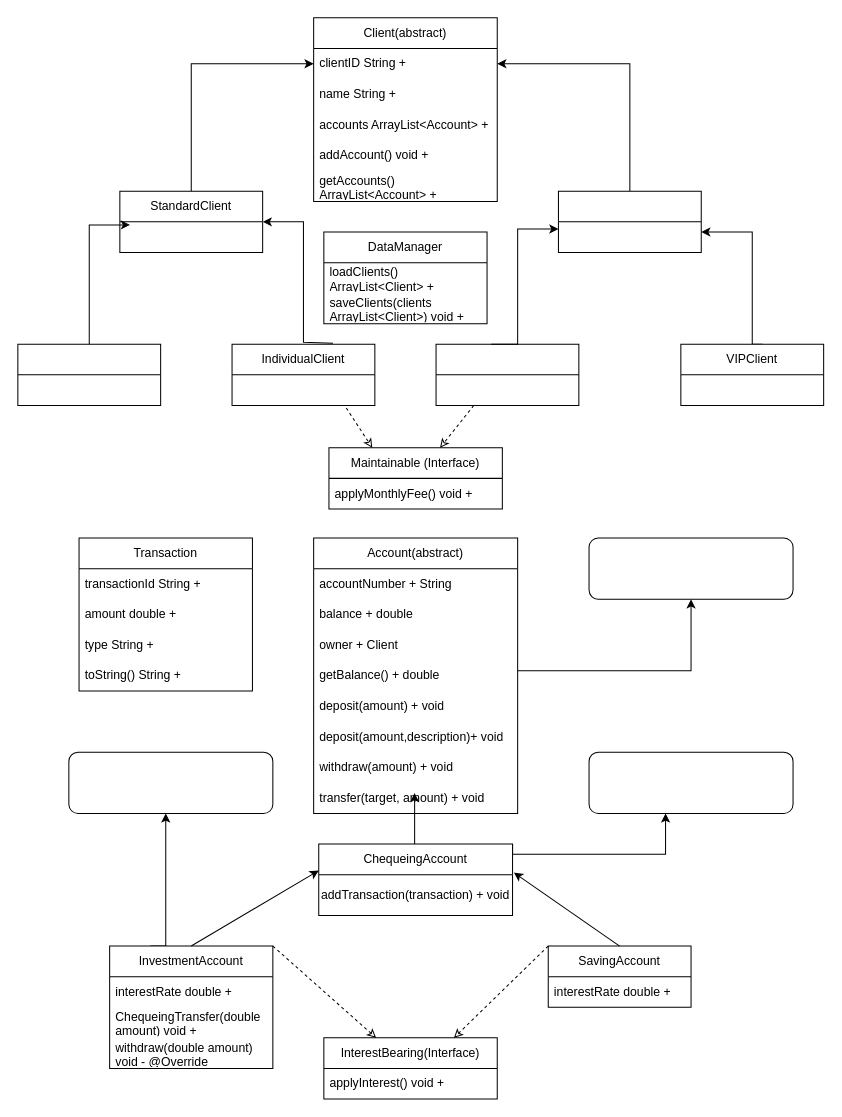
This 842x1117 diagram has some shape labels left out. The centre of each missing label's shape, as x and y in pixels:
CorporateClient: [507,374]
InsufficientFundsException: [690,568]
InvestmentLockException: [170,782]
MissingChequeingAccountException: [690,782]
PremiumClient: [629,221]
StudentClient: [89,374]
